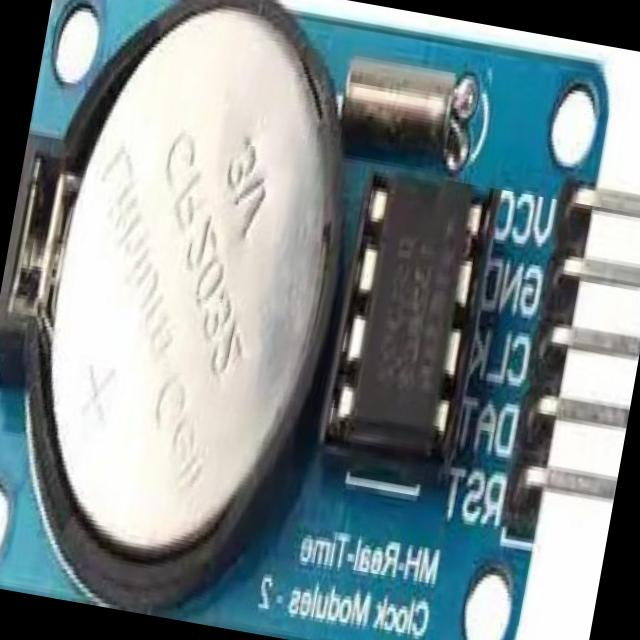IC: (332, 174, 486, 450)
connector: (503, 180, 640, 550)
